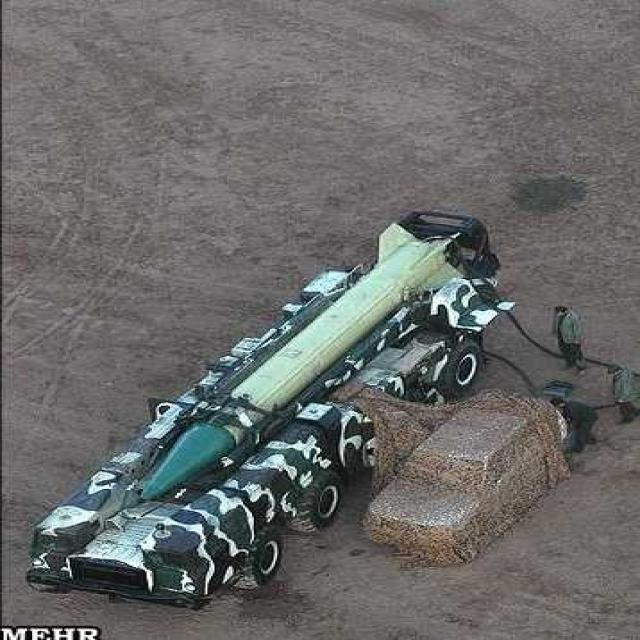missile: (138, 226, 455, 499)
